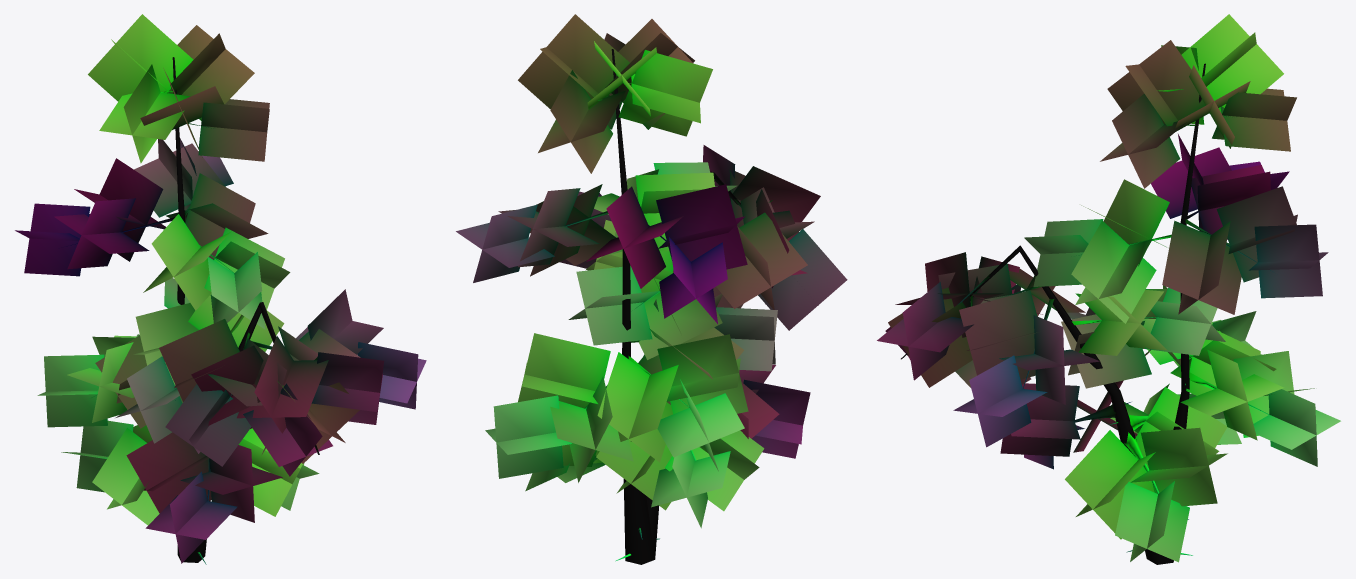
Rendered from URP_P7_Tree_14_LOD_3.fbx.
3 views of the same model, side by side, from view 1: azimuth 30°, elevation 25°; view 2: azimuth 150°, elevation 25°; view 3: azimuth 270°, elevation 25° (orthographic). The views are drawn at different scales.
Parts seen in each view (by area): view 1: Tree_14_LOD_3; view 2: Tree_14_LOD_3; view 3: Tree_14_LOD_3.
Part boxes in pixels (box(x1,y1,x2,y2)): Tree_14_LOD_3: box(15, 14, 426, 564); Tree_14_LOD_3: box(456, 14, 847, 564); Tree_14_LOD_3: box(877, 14, 1340, 564).
Size of the model in its own units: 274 by 466 by 374.
